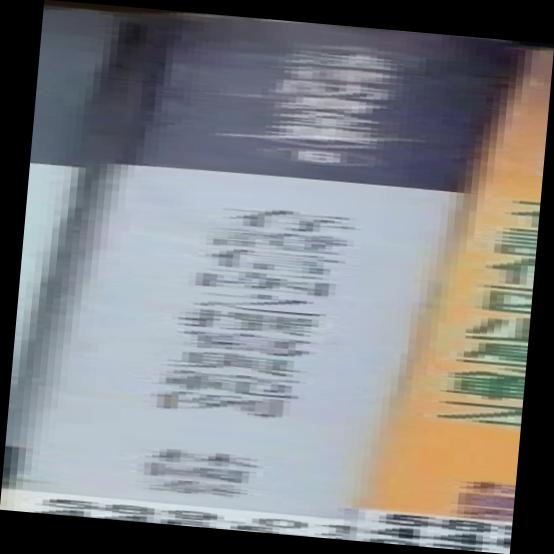book: (1, 1, 553, 554)
